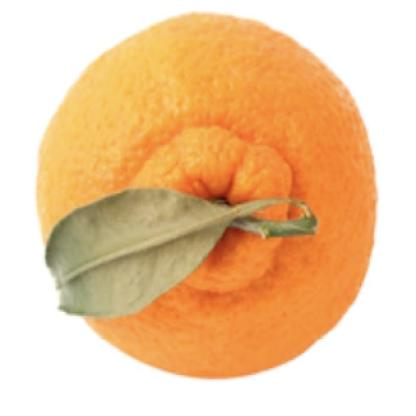fresh: (38, 13, 377, 374)
